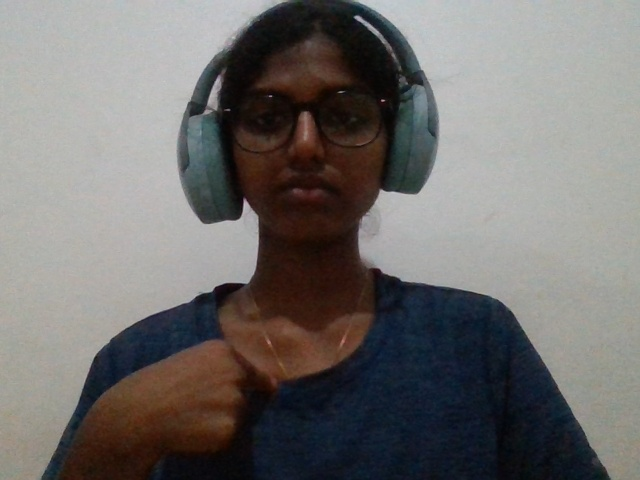Me: (59, 315, 317, 480)
